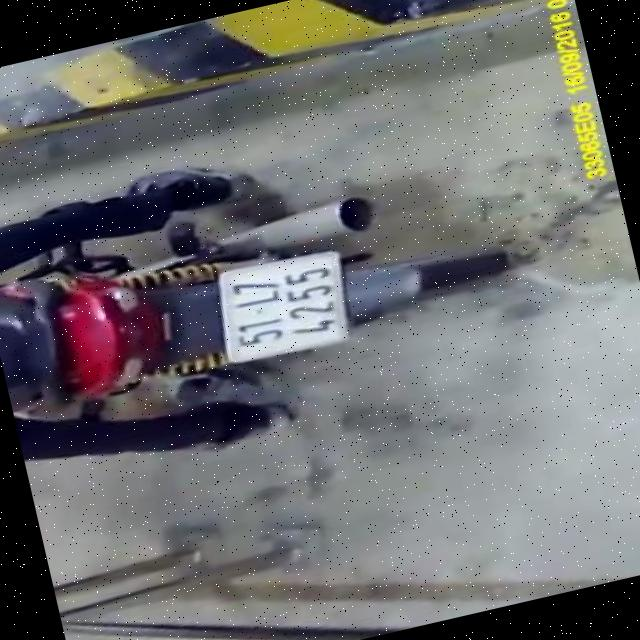license_plate: (204, 245, 356, 366)
